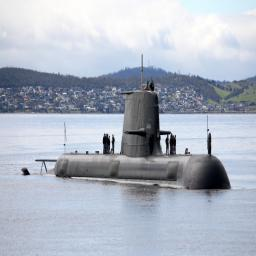submarine: (23, 86, 234, 189)
